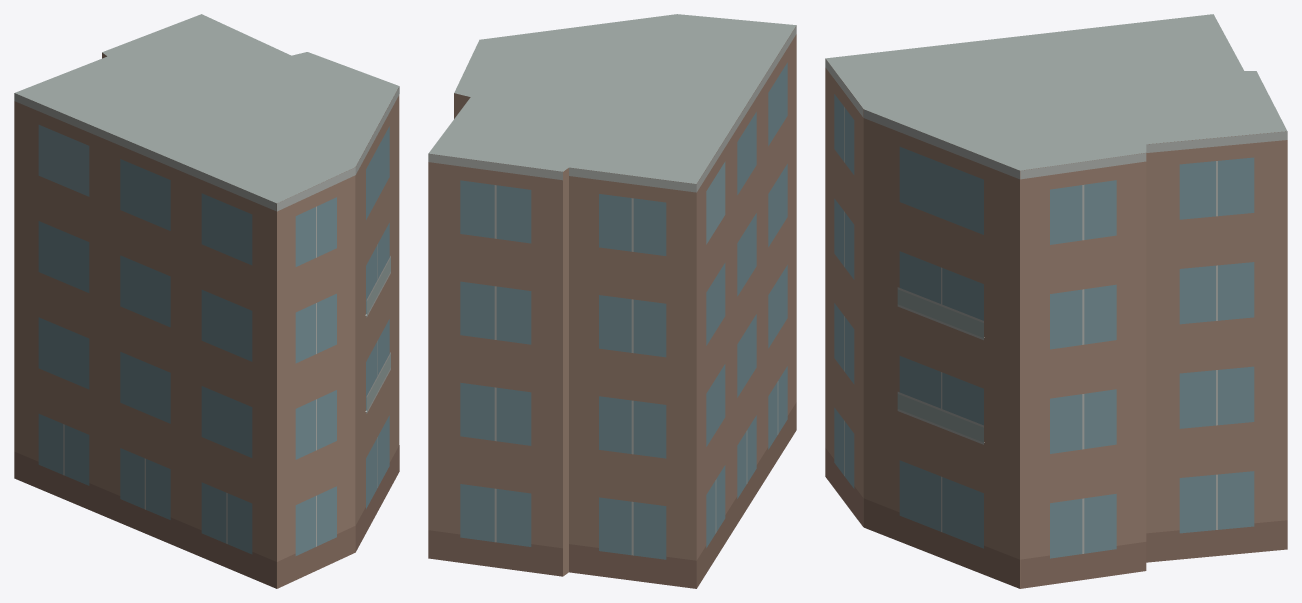
File: survey-upis-32487101.glb
3 renders of one model, left to right at view 1: azimuth 30°, elevation 25°; view 2: azimuth 150°, elevation 25°; view 3: azimuth 270°, elevation 25°, orthographic. The views are drawn at different scales.
Visible parts, largest first — view 1: survey-upis-32487101.tmp; view 2: survey-upis-32487101.tmp; view 3: survey-upis-32487101.tmp.
Part boxes in pixels (<box>): survey-upis-32487101.tmp: <box>14,14,399,588</box>; survey-upis-32487101.tmp: <box>428,14,796,588</box>; survey-upis-32487101.tmp: <box>825,14,1287,588</box>.
Bounding box in the file's own units: 9.35 × 11.62 × 11.65.
